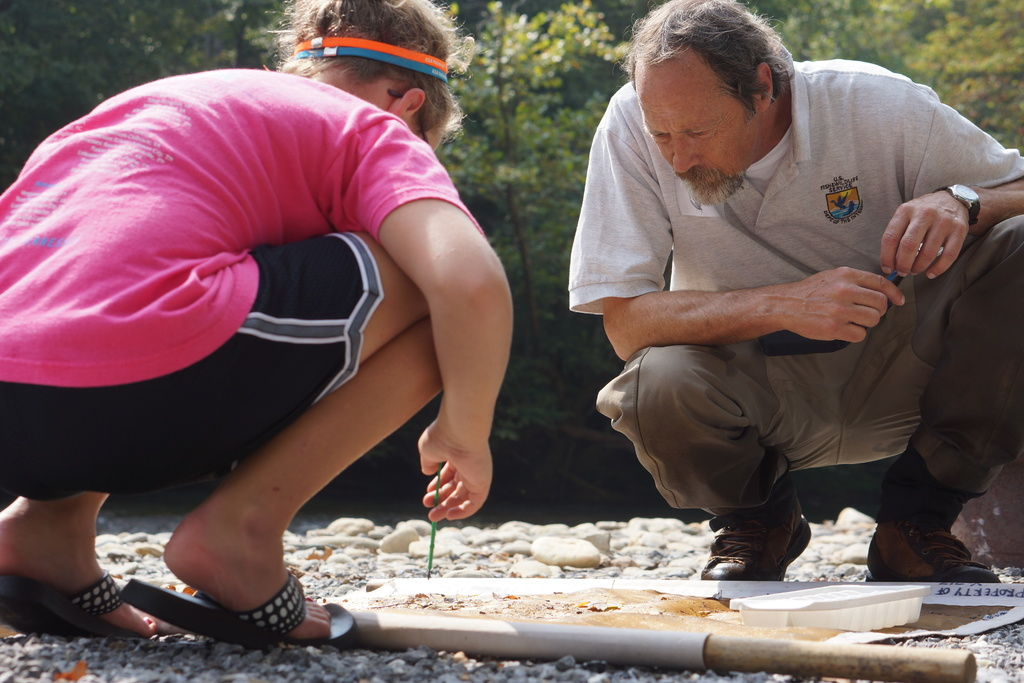Human_hand: (785, 264, 908, 348), (896, 172, 984, 277), (413, 418, 495, 527)
